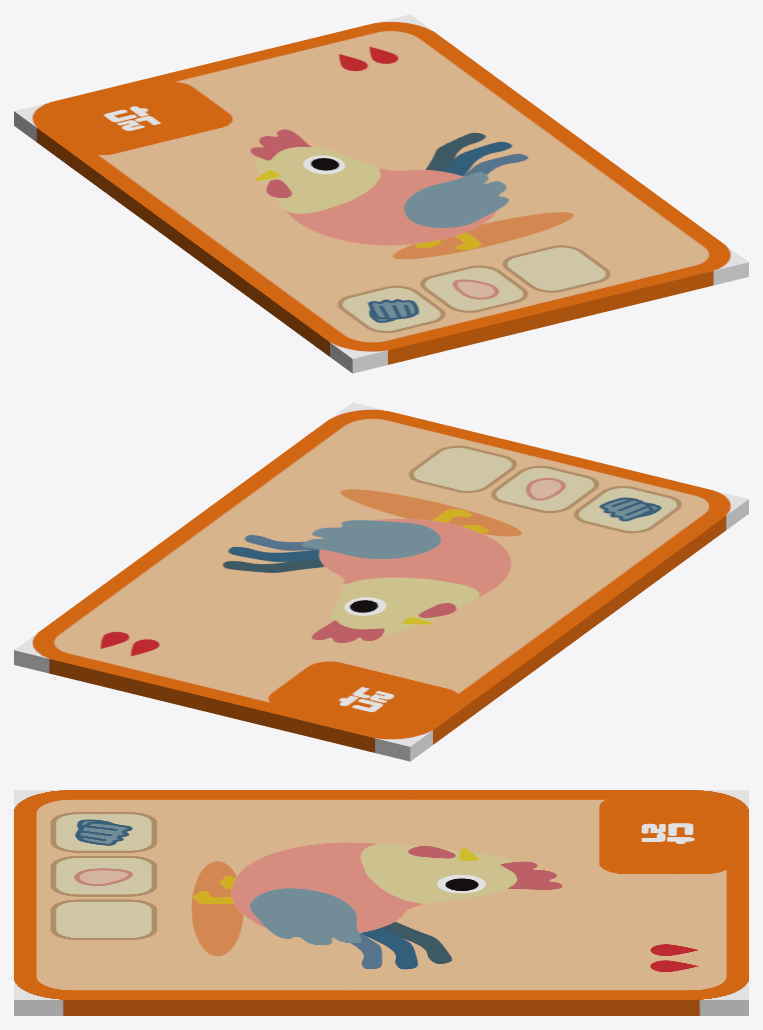
File: ChickenCard.fbx
The picture shows the model from 3 angles, top to bottom: view 1: azimuth 30°, elevation 25°; view 2: azimuth 150°, elevation 25°; view 3: azimuth 270°, elevation 25°; orthographic projection. The views are drawn at different scales.
Visible parts, largest first — view 1: Front, Back; view 2: Front, Back; view 3: Front, Back.
Boxes of the visible parts, bbox=[...] form: Front: bbox=[14, 14, 748, 366]; Back: bbox=[14, 118, 748, 373]; Front: bbox=[14, 402, 748, 754]; Back: bbox=[14, 506, 748, 761]; Front: bbox=[14, 790, 748, 1007]; Back: bbox=[14, 1008, 748, 1015].
Bounding box in the file's own units: 4.06 × 0.1436 × 6.
